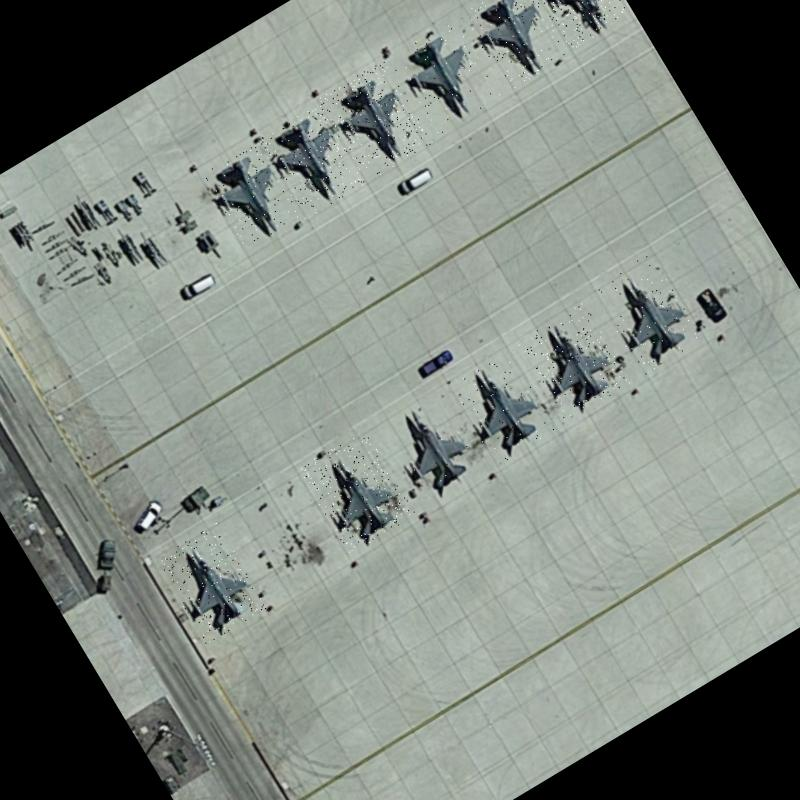A5: (297, 428, 416, 554), (588, 250, 704, 376), (318, 59, 433, 181), (516, 302, 632, 422), (154, 522, 268, 644), (388, 17, 502, 137), (258, 100, 372, 219), (376, 383, 489, 503), (447, 348, 556, 466), (201, 138, 305, 249), (461, 0, 570, 91), (524, 0, 633, 51)
